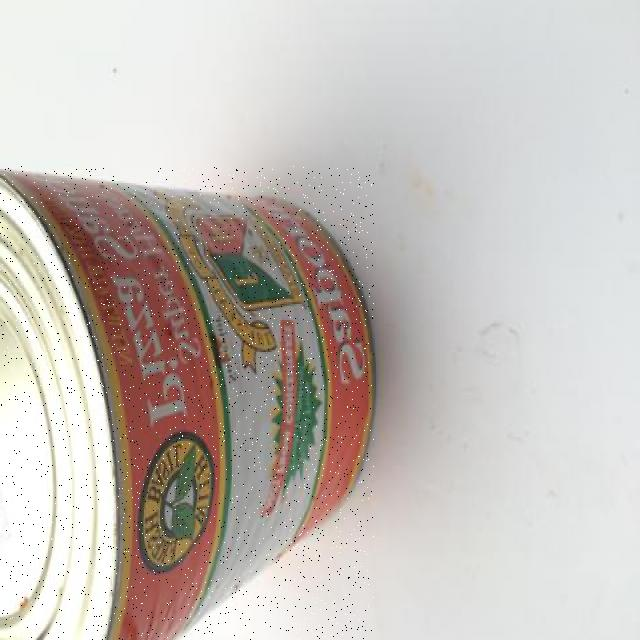metal: (0, 166, 374, 640)
